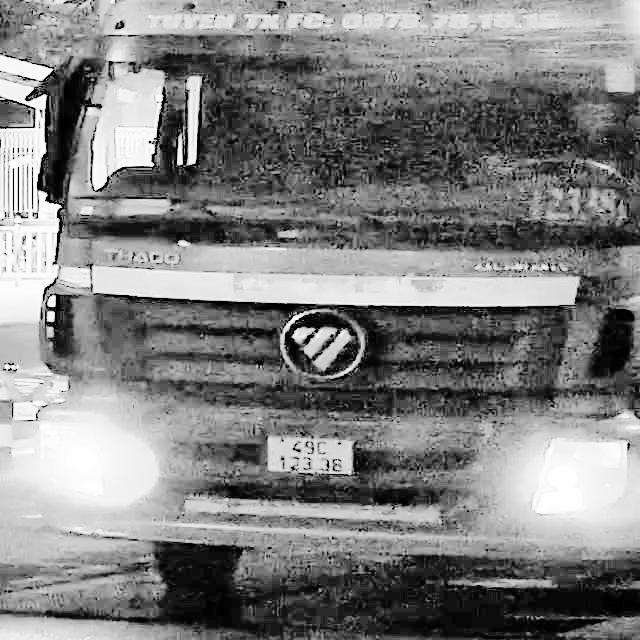Truck: (26, 0, 639, 619)
